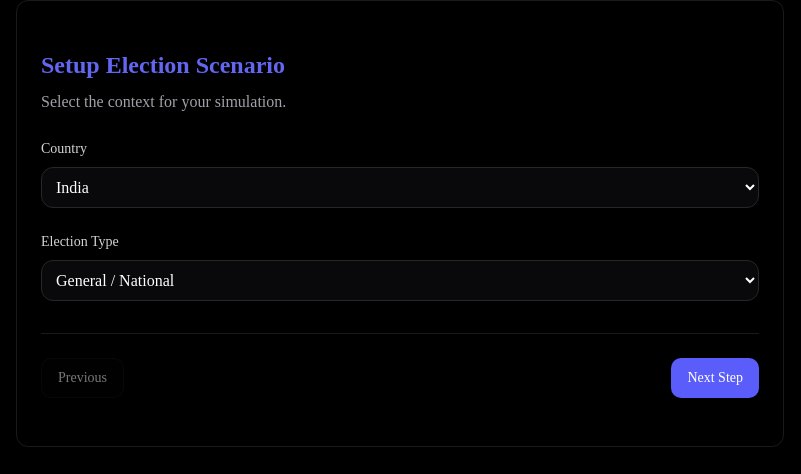
Test case: SimulationPanel › navigates to next step on button click
Click the button "Next Step". click: (715, 378)
box: [671,358,759,398]
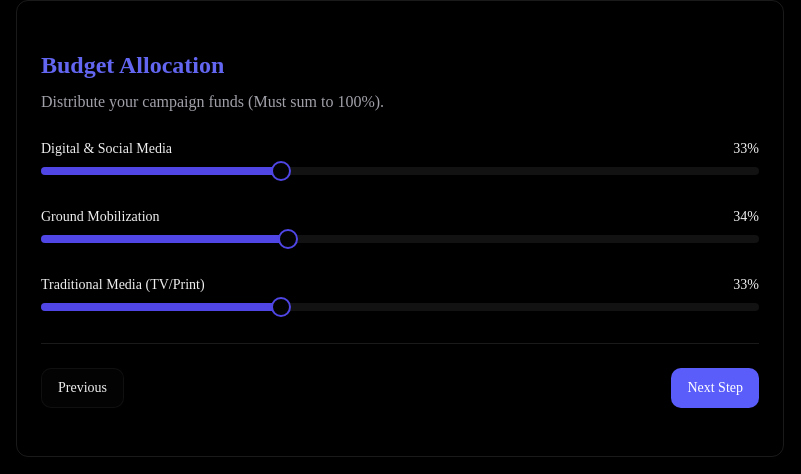
Expected: the text "Budget Allocation" is shown, [41,52,224,78]
